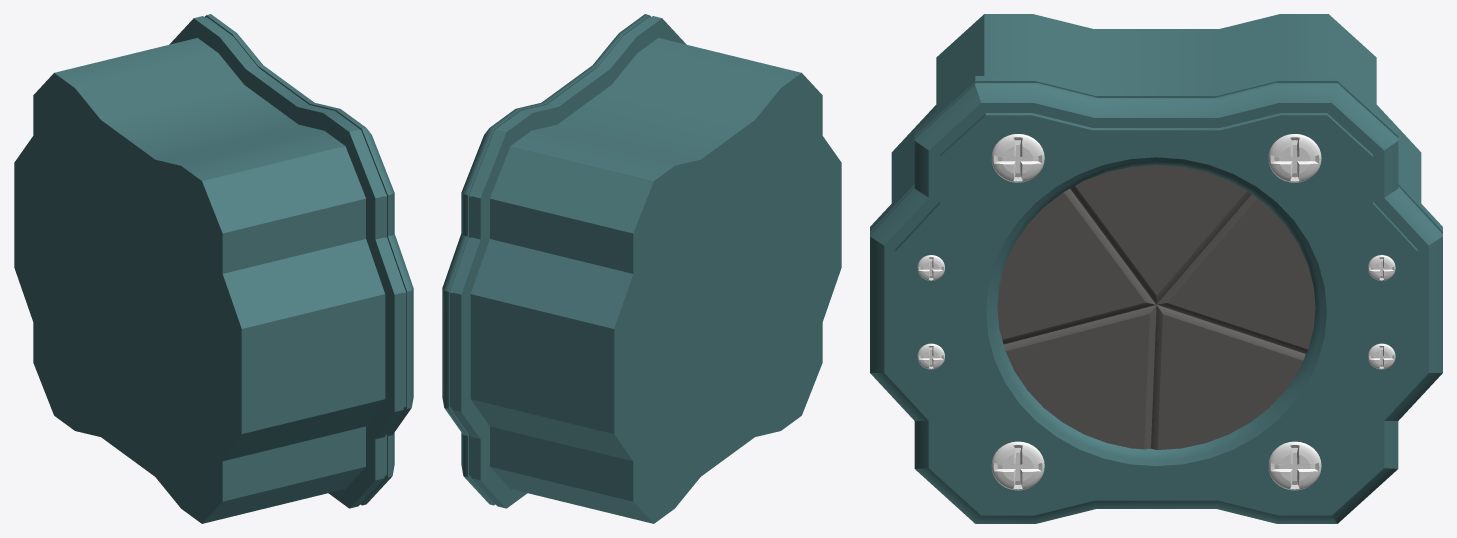
The model's file is dispenser.fbx.
3 views of the same model, side by side, from view 1: azimuth 30°, elevation 25°; view 2: azimuth 150°, elevation 25°; view 3: azimuth 270°, elevation 25° (orthographic). The views are drawn at different scales.
Parts seen in each view (by area): view 1: Cube.075; view 2: Cube.075; view 3: Cube.075, Cylinder.040, Cylinder.037, Cylinder.045, Cylinder.047, Cylinder.046.
Boxes of the visible parts, box(x1,y1,x2,y2) form: Cube.075: box(14, 14, 413, 523); Cube.075: box(442, 14, 841, 523); Cube.075: box(870, 14, 1442, 523); Cylinder.040: box(1151, 305, 1305, 449); Cylinder.037: box(1003, 305, 1156, 449); Cylinder.045: box(1157, 194, 1315, 353); Cylinder.047: box(997, 189, 1155, 344); Cylinder.046: box(1070, 165, 1251, 304).
Bounding box in the file's own units: 394 × 800 × 947.
